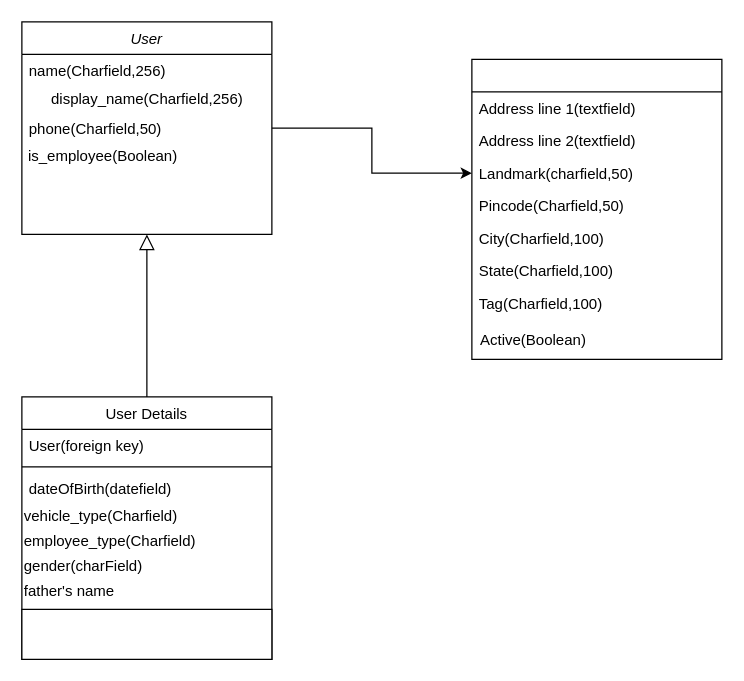
Some shapes in this 744 by 681 pixel diagram are drawn without their labels. Each missing label, with the box of its shape:
meta_data(models.JSON Field) ???: (21, 608, 272, 659)
User Address: (471, 58, 722, 359)
